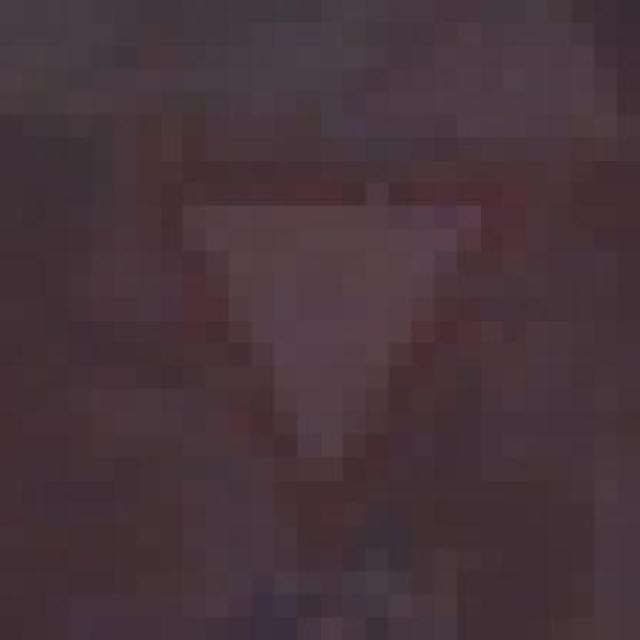Give Way: (137, 137, 526, 503)
